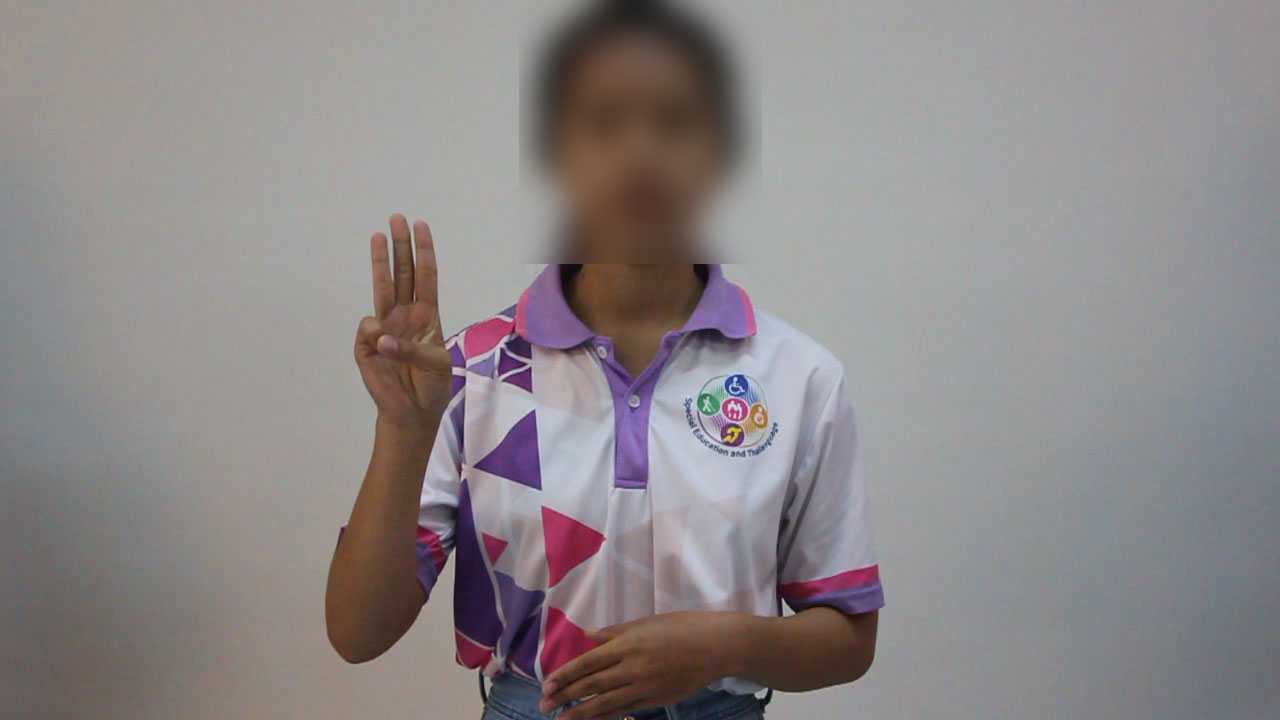wor: (349, 206, 457, 434)
